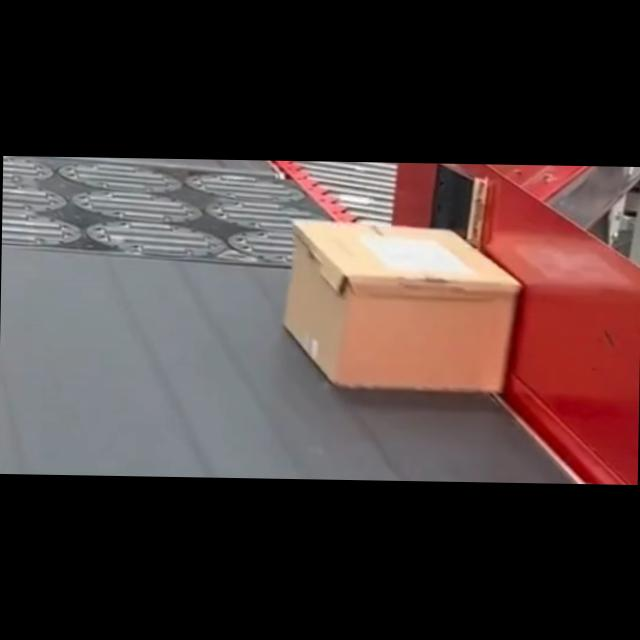box: (280, 214, 514, 395)
